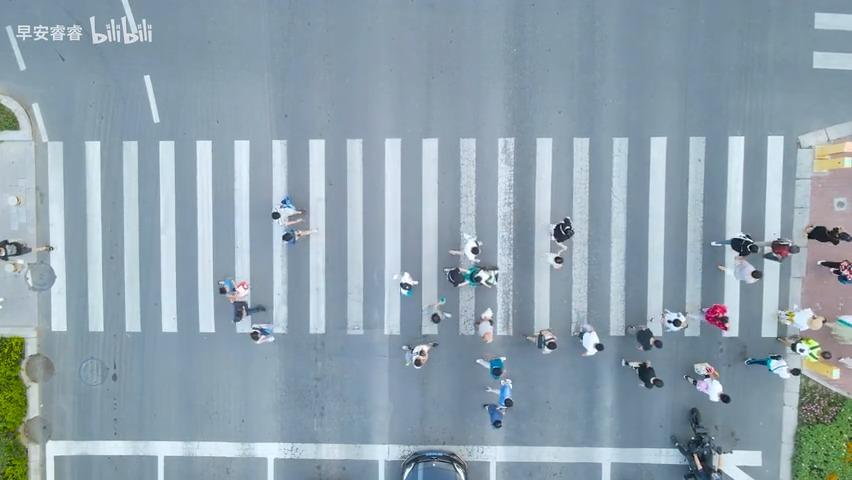Civilian: (710, 231, 799, 284), (270, 195, 317, 244), (682, 362, 730, 404), (776, 334, 831, 361), (546, 216, 574, 269), (744, 353, 801, 379), (620, 357, 663, 389), (776, 305, 826, 331), (443, 265, 499, 288), (717, 256, 762, 284), (710, 231, 759, 256), (0, 239, 54, 261), (447, 231, 483, 263), (226, 294, 265, 323), (271, 195, 306, 227), (572, 322, 604, 356), (804, 223, 851, 245), (401, 341, 438, 368), (625, 324, 662, 351), (762, 237, 799, 262), (816, 258, 851, 284), (521, 328, 557, 353), (484, 377, 513, 407), (824, 314, 851, 345), (422, 296, 451, 324), (217, 278, 250, 302), (701, 303, 729, 331), (473, 307, 494, 343), (475, 355, 506, 378), (482, 402, 509, 428), (392, 270, 418, 296), (660, 308, 688, 332), (550, 216, 574, 243), (281, 227, 318, 244), (249, 324, 275, 344)
